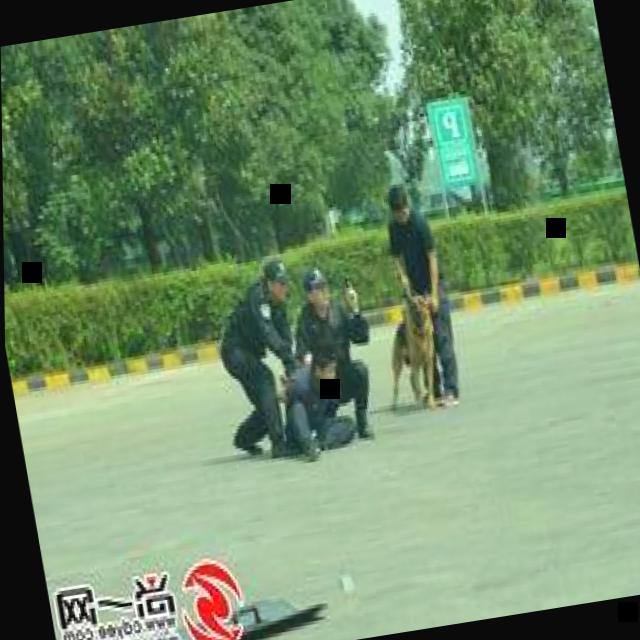Fall-Detected: (259, 332, 387, 464)
